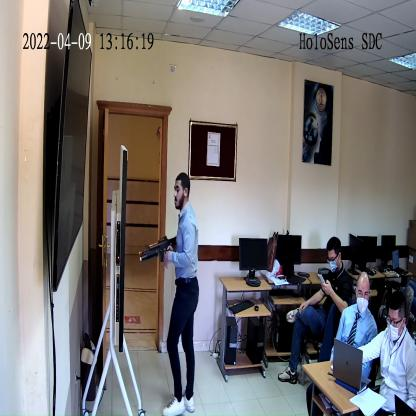handgun: (138, 234, 178, 270)
